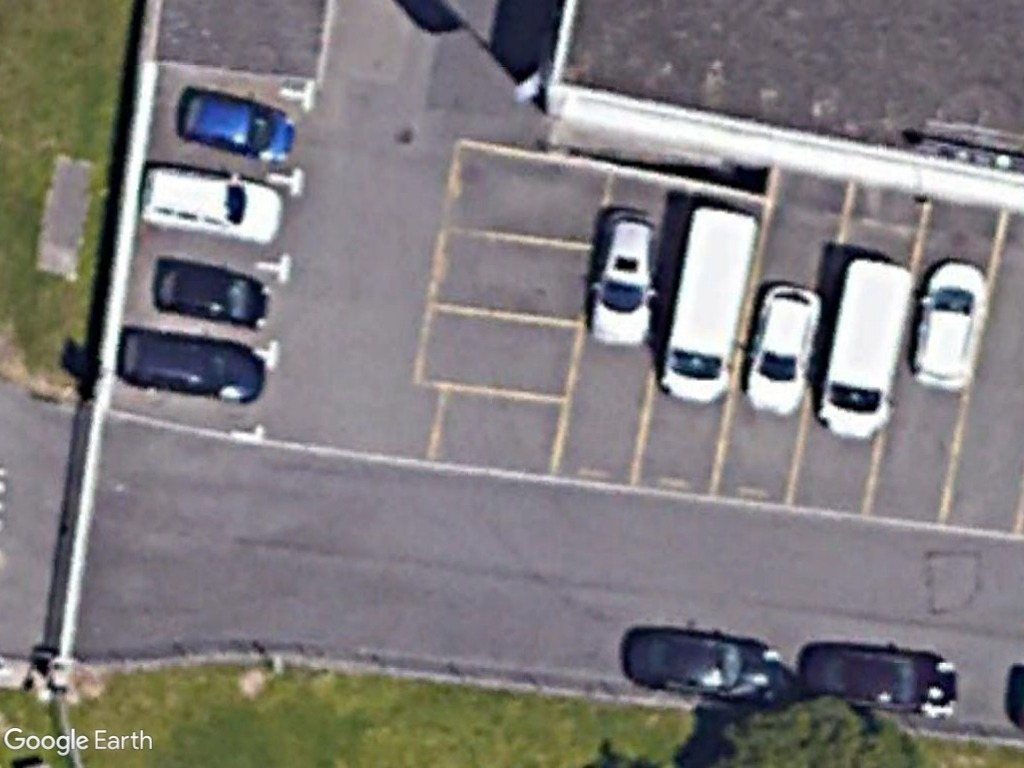car: (138, 161, 286, 245), (583, 204, 664, 349), (745, 283, 826, 418), (913, 257, 992, 393), (177, 86, 296, 166)
van: (655, 206, 764, 407), (812, 254, 917, 441)
